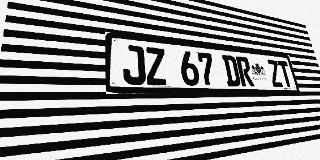6: (179, 50, 200, 86)
7: (196, 52, 217, 86)
D: (222, 55, 241, 86)
J: (122, 44, 146, 85)
R: (235, 56, 254, 87)
T: (277, 60, 294, 87)
Z: (144, 47, 168, 85), (266, 59, 284, 87)
